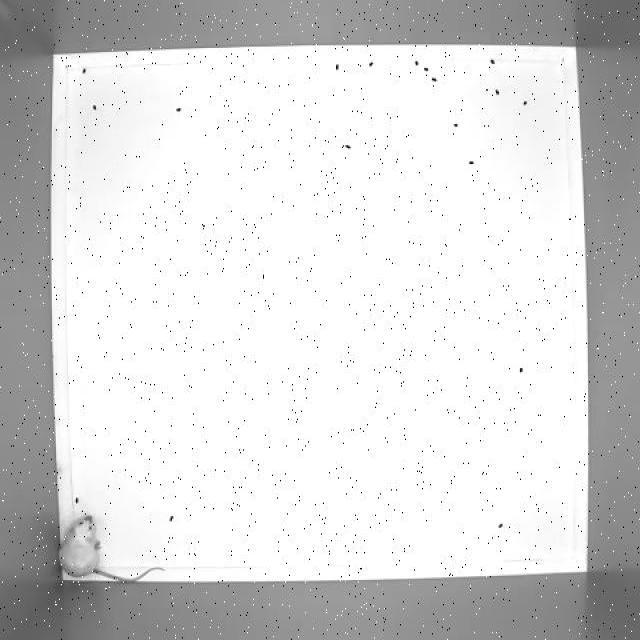rat: (54, 510, 168, 587)
